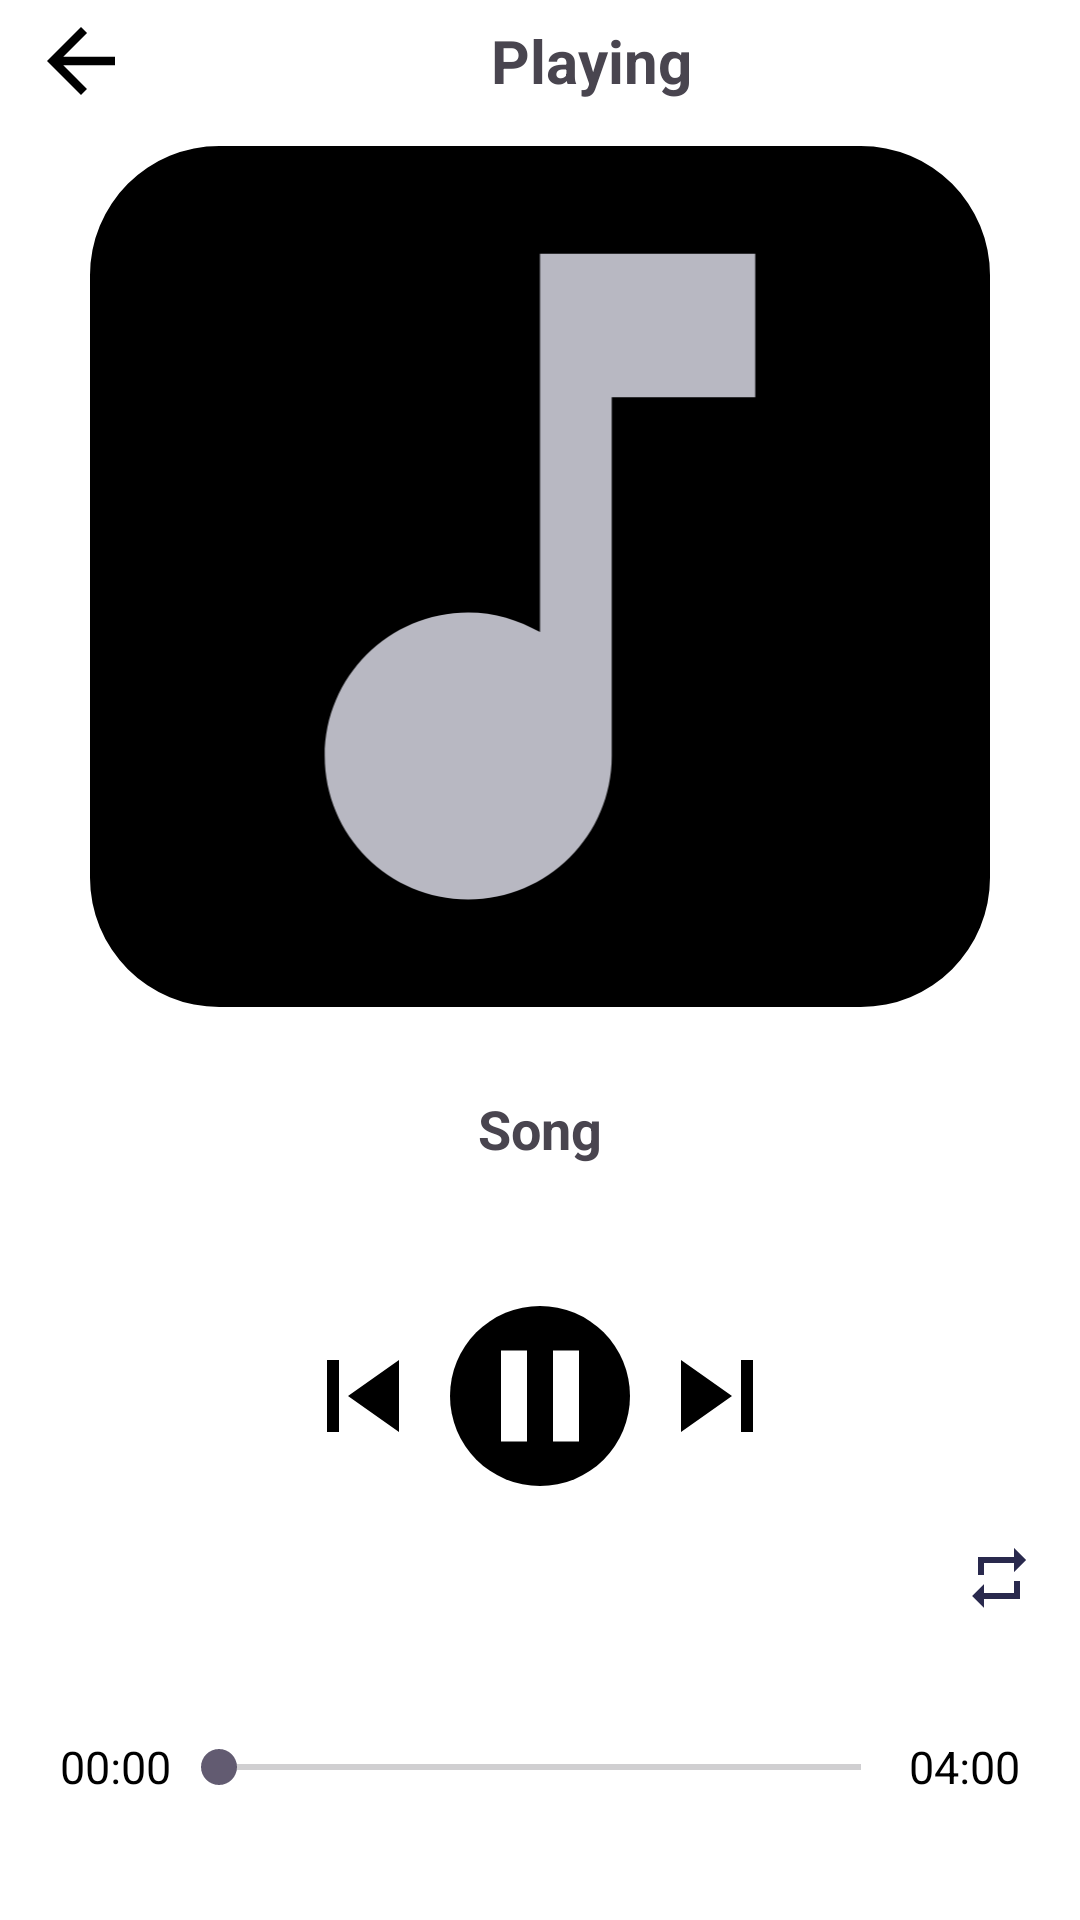

Named icons in this screenshot (1080x1920) and their bounding boxes, (x1, y1, x2, y2):
Back Button: (47, 27, 115, 95)
Next Button: (681, 1360, 753, 1432)
Previous Button: (327, 1360, 399, 1432)
Repeat: (972, 1548, 1026, 1608)
